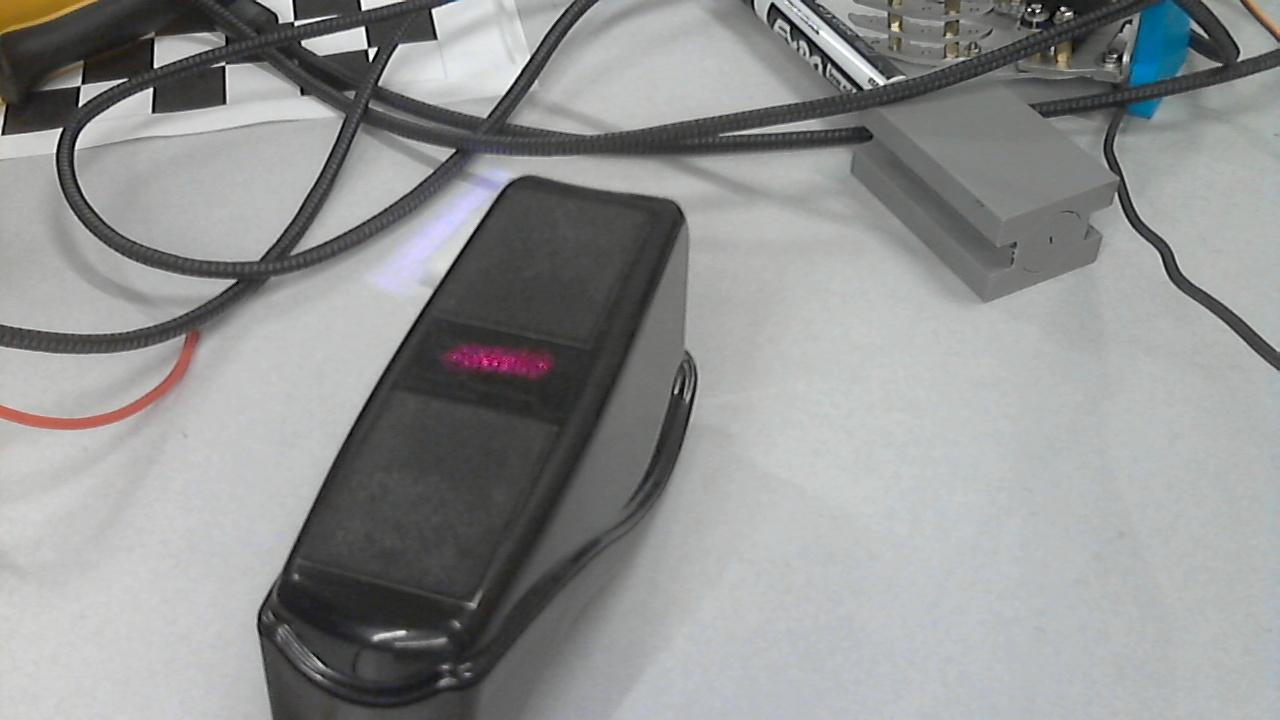Object fitness tracker replacement band - Material silicone - Pdfname fdfasdjhad: (412, 313, 579, 407)
